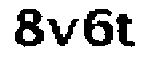6: (82, 4, 115, 51)
8: (9, 4, 45, 50)
t: (116, 10, 139, 49)
v: (46, 13, 78, 48)
